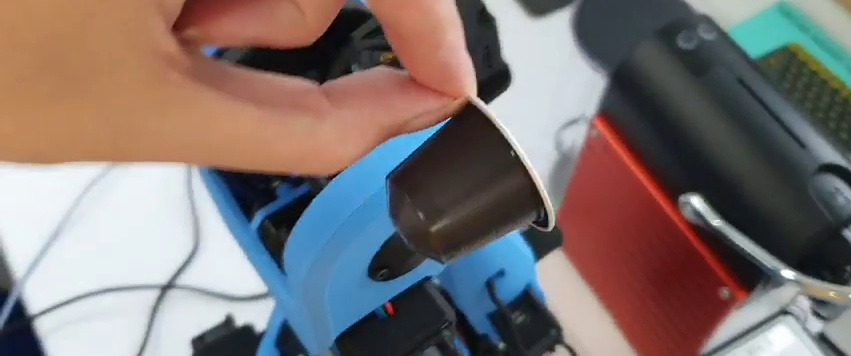capsule_4: (385, 92, 558, 266)
